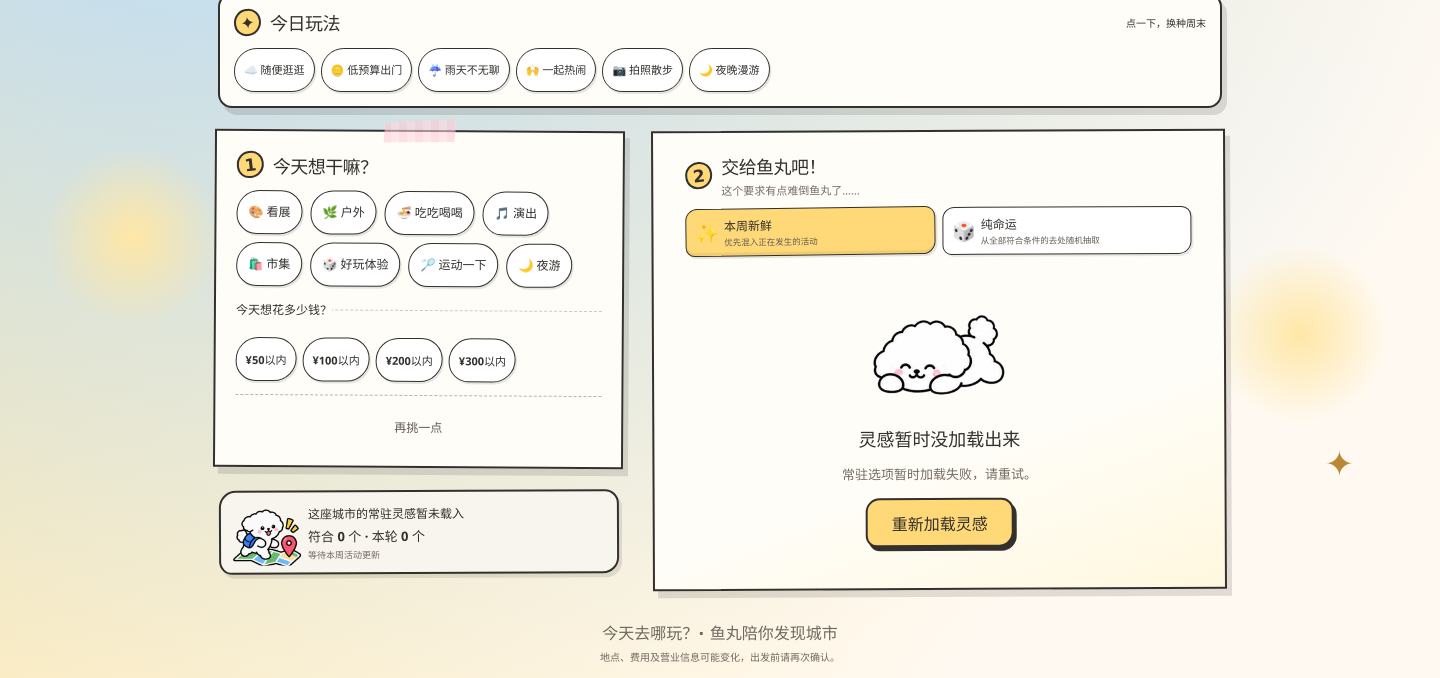
a failed first content load offers a working retry without showing another city
(page scrolled)
Click the button "重新加载灵感".
click(940, 522)  # box x1=866 y1=498 x2=1014 y2=547
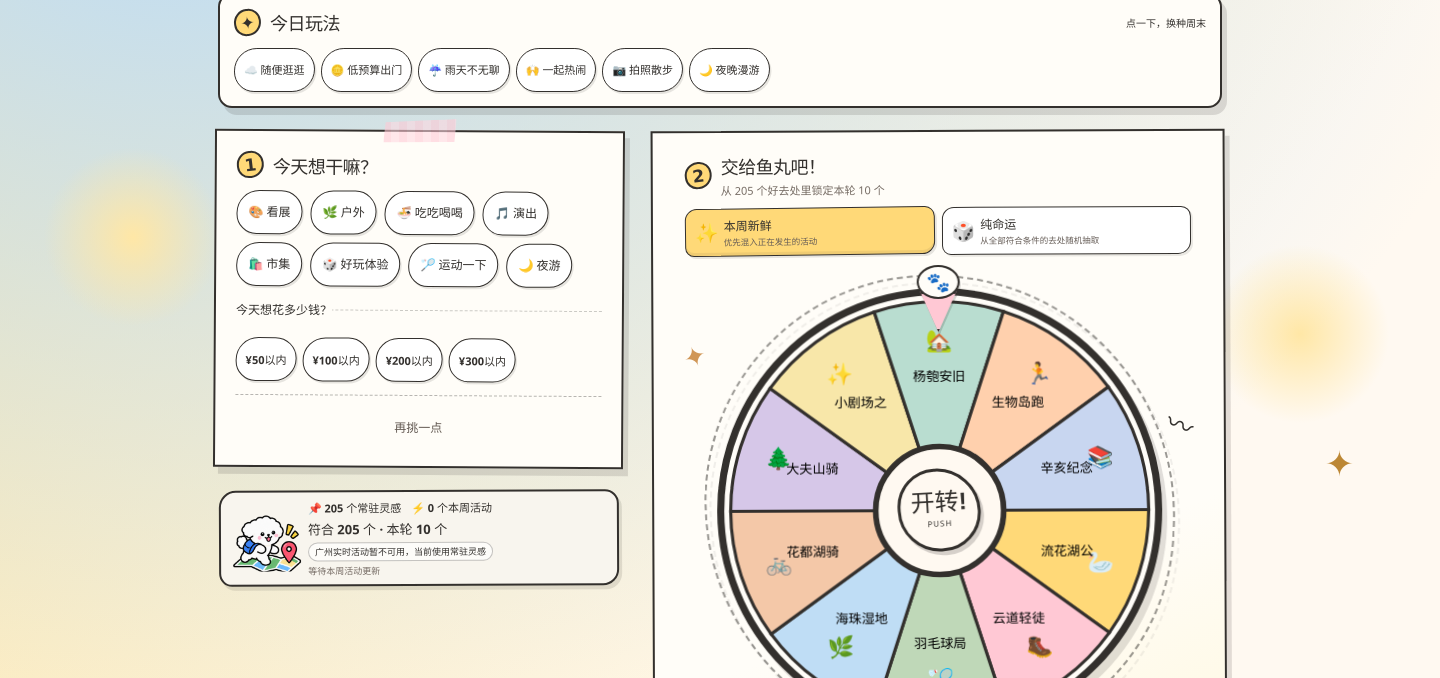
Now the button with aria-label "开转！" is enabled, box x1=895 y1=466 x2=983 y2=554
Now the button "重新加载灵感" is gone
